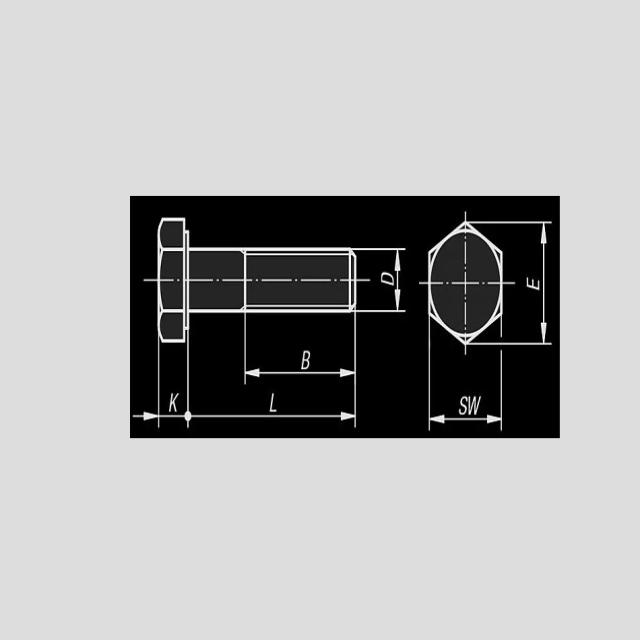marking_line: (243, 315, 357, 383), (186, 385, 357, 429), (426, 345, 503, 432), (504, 221, 552, 345), (357, 248, 405, 313), (130, 344, 161, 429)
